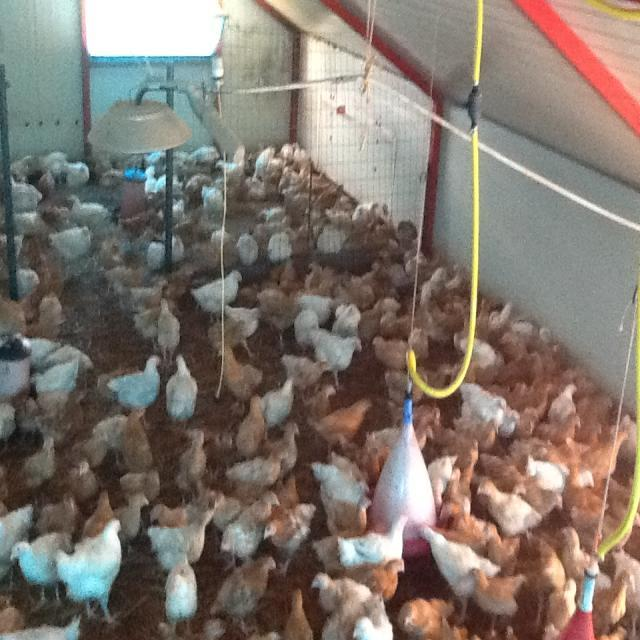poussin: (59, 513, 128, 627), (422, 526, 496, 600), (220, 488, 282, 566), (213, 552, 276, 626), (12, 526, 68, 608), (476, 480, 547, 541), (315, 494, 370, 572), (344, 516, 411, 572), (141, 518, 215, 568), (264, 497, 318, 564), (110, 352, 163, 417), (30, 382, 88, 440), (162, 352, 202, 433), (161, 552, 206, 623), (318, 393, 373, 451), (566, 459, 606, 538), (228, 442, 291, 490), (570, 426, 628, 478), (472, 560, 521, 618), (277, 346, 328, 398), (371, 414, 434, 456), (217, 343, 264, 399), (524, 530, 560, 602), (615, 542, 640, 640), (429, 416, 482, 462), (230, 393, 268, 455), (598, 564, 632, 633), (347, 563, 408, 601), (306, 331, 366, 369), (315, 460, 363, 507), (262, 374, 298, 436), (135, 231, 190, 271), (21, 428, 57, 489), (122, 400, 150, 478), (194, 268, 241, 314), (482, 448, 529, 493), (562, 527, 592, 591), (513, 372, 553, 420), (510, 438, 578, 466), (348, 434, 386, 484), (262, 286, 297, 340), (181, 430, 210, 495), (41, 486, 78, 536), (376, 367, 426, 404), (401, 592, 447, 632), (372, 336, 426, 370), (462, 380, 510, 418), (224, 298, 262, 346), (0, 510, 33, 564), (34, 357, 82, 394), (42, 340, 94, 374), (487, 522, 518, 579), (311, 566, 359, 602), (524, 458, 566, 499), (209, 480, 249, 523), (12, 325, 56, 364), (122, 466, 166, 504), (151, 495, 197, 531), (125, 278, 171, 314), (296, 288, 334, 330), (272, 420, 308, 464), (441, 468, 468, 526), (87, 488, 118, 538), (282, 583, 309, 640), (544, 409, 590, 442), (154, 298, 178, 357), (455, 501, 485, 548), (379, 305, 415, 344), (0, 284, 27, 336), (462, 334, 497, 374), (51, 226, 91, 261), (65, 193, 109, 224), (288, 306, 319, 348), (313, 224, 347, 262), (122, 491, 148, 539), (549, 586, 576, 632), (5, 174, 42, 207), (71, 456, 100, 498), (582, 389, 620, 421), (0, 398, 25, 446), (36, 291, 66, 331), (435, 264, 470, 298), (250, 141, 276, 186), (134, 302, 158, 350), (470, 416, 502, 450), (330, 302, 359, 339), (348, 202, 376, 240), (306, 383, 341, 413), (417, 282, 437, 334), (360, 299, 382, 346), (232, 232, 260, 268), (186, 167, 210, 209), (382, 252, 407, 292), (200, 180, 225, 220), (550, 383, 578, 418), (266, 230, 292, 267), (620, 414, 638, 466), (42, 150, 67, 187), (516, 408, 543, 442), (66, 158, 94, 190), (7, 147, 34, 180), (12, 268, 38, 302), (210, 220, 234, 256), (464, 436, 481, 486), (474, 300, 494, 342), (290, 187, 318, 217), (504, 404, 526, 442), (260, 151, 286, 183), (161, 202, 193, 227), (0, 230, 21, 268), (150, 171, 172, 205), (526, 344, 546, 381), (374, 293, 402, 319), (193, 142, 217, 172), (9, 210, 39, 234), (141, 163, 159, 201), (284, 134, 304, 167), (510, 318, 541, 339), (488, 302, 513, 328), (220, 156, 244, 181), (275, 168, 302, 190), (168, 151, 192, 175), (102, 167, 121, 196), (302, 260, 318, 292), (145, 144, 164, 170), (38, 172, 52, 195)
